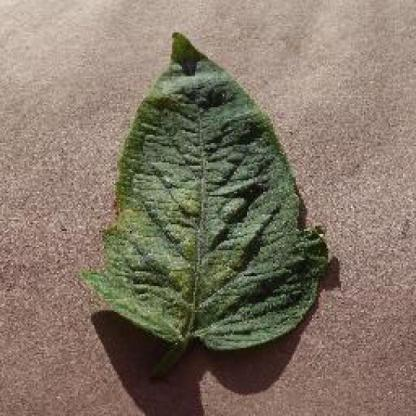Tomato_Spider_Mites: (84, 32, 327, 349)
